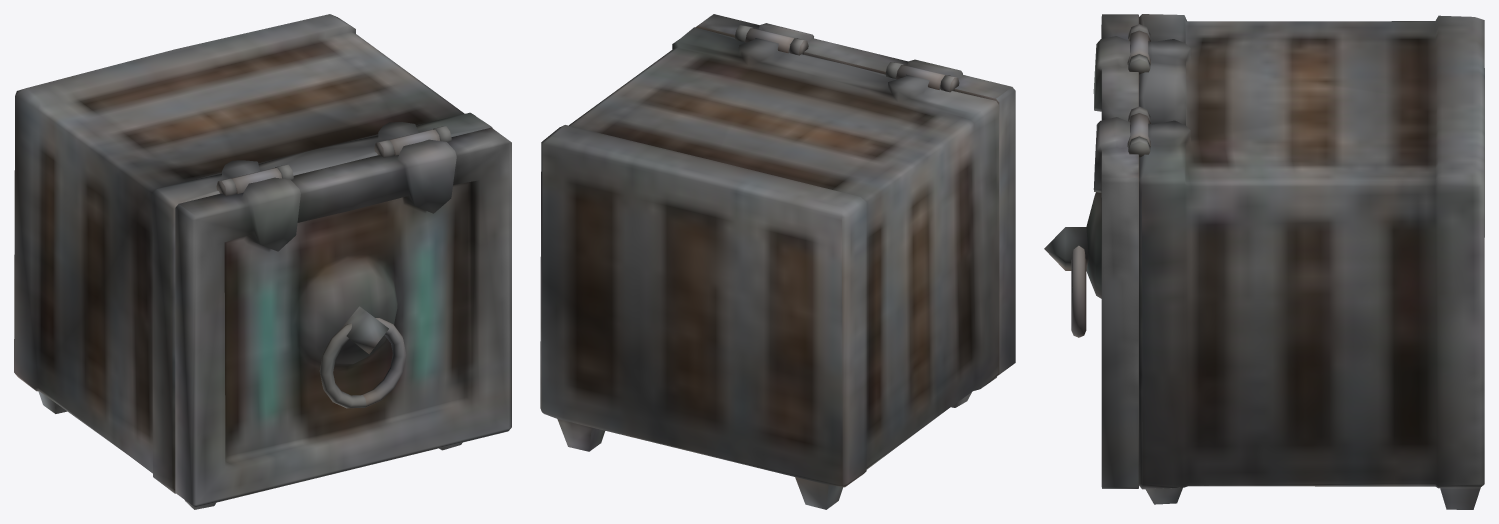
File: chest_magic_large.glb
The picture shows the model from 3 angles, left to right: view 1: azimuth 30°, elevation 25°; view 2: azimuth 150°, elevation 25°; view 3: azimuth 270°, elevation 25°; orthographic projection. The views are drawn at different scales.
Visible parts, largest first — view 1: storage_chest_magical_04; view 2: storage_chest_magical_04; view 3: storage_chest_magical_04.
Boxes of the visible parts, x1,y1,x2,y2 form: storage_chest_magical_04: [14, 14, 511, 509]; storage_chest_magical_04: [540, 14, 1015, 509]; storage_chest_magical_04: [1044, 14, 1484, 509].
Size of the model in its own units: 1.04 by 1.02 by 1.15.
1 material, 1 textured.
